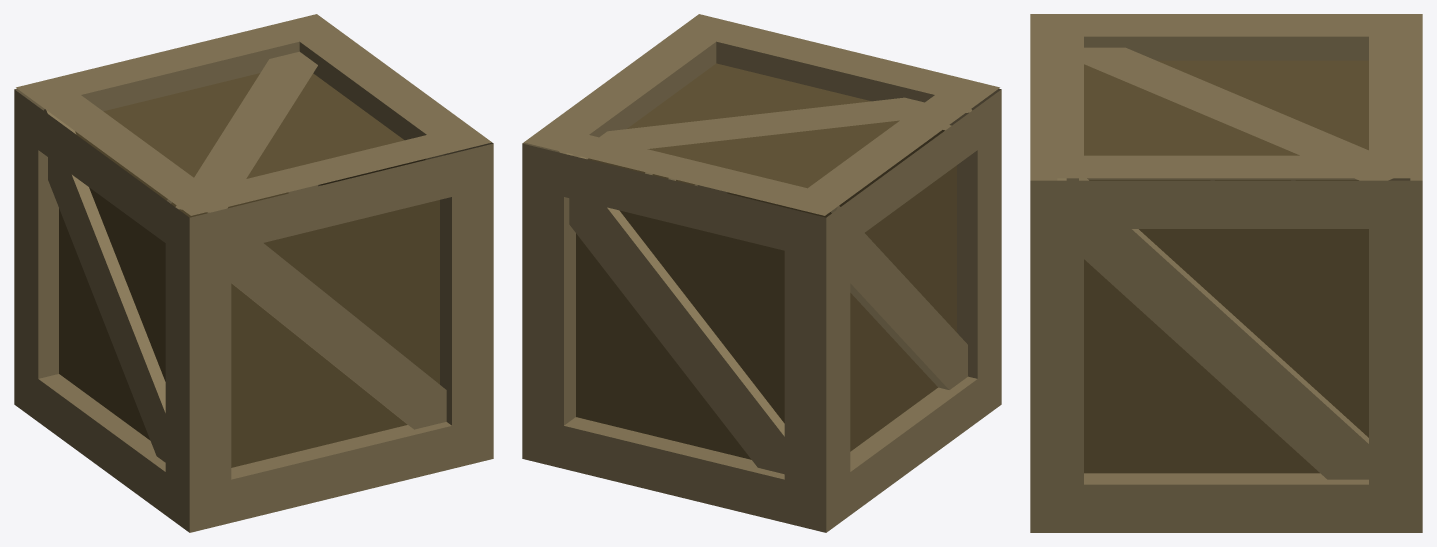
File: Crate 01.FBX
3 views of the same model, side by side, from view 1: azimuth 30°, elevation 25°; view 2: azimuth 150°, elevation 25°; view 3: azimuth 270°, elevation 25° (orthographic). The views are drawn at different scales.
Visible parts, largest first — view 1: Crate 01; view 2: Crate 01; view 3: Crate 01.
Boxes of the visible parts, x1,y1,x2,y2 form: Crate 01: (14, 14, 493, 532); Crate 01: (522, 14, 1001, 532); Crate 01: (1030, 14, 1422, 532).
Bounding box in the file's own units: 68.13 × 67.83 × 68.13.
